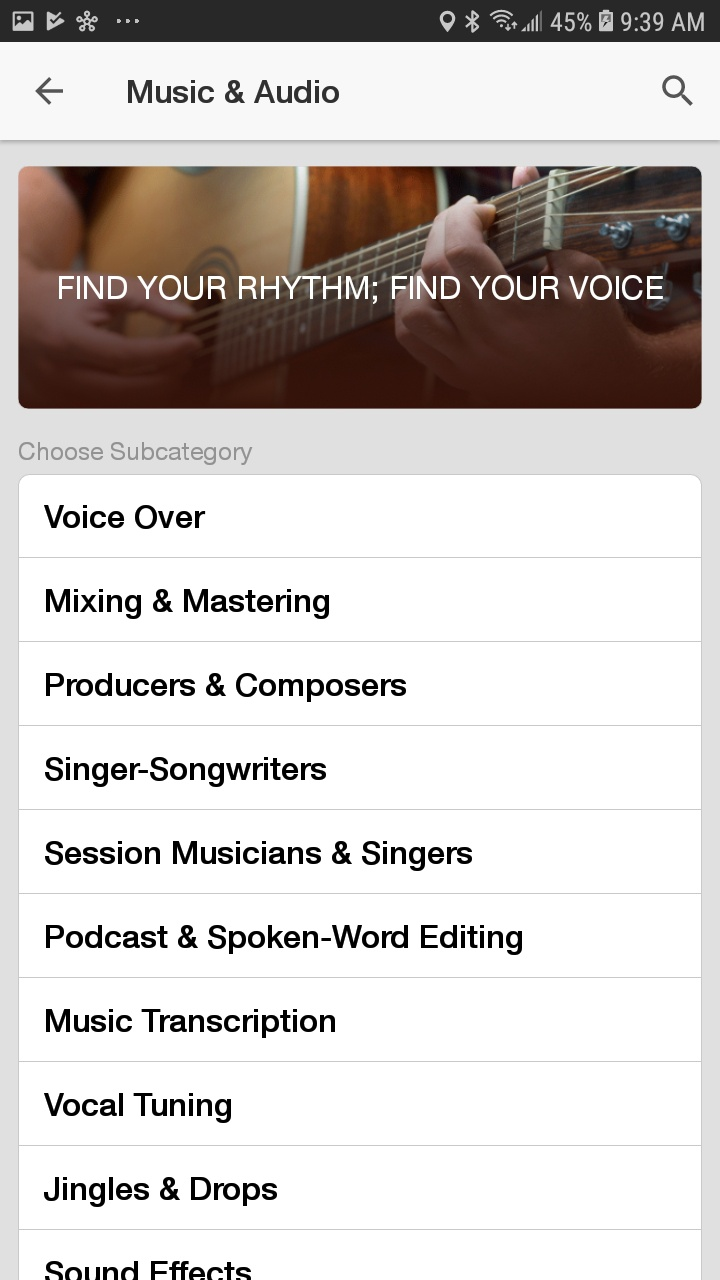Icon: (662, 75, 694, 107), (35, 77, 64, 106)
Image: (19, 166, 702, 410)
Text: (59, 275, 664, 302), (46, 924, 523, 956), (45, 840, 473, 872), (46, 673, 407, 703), (46, 588, 330, 620), (46, 1008, 336, 1039), (45, 757, 327, 788), (44, 1177, 278, 1208), (44, 1092, 232, 1124), (20, 442, 254, 467), (128, 80, 340, 105), (45, 1260, 253, 1280), (45, 505, 207, 530)
UpperTaskBar: (1, 1, 720, 43)
